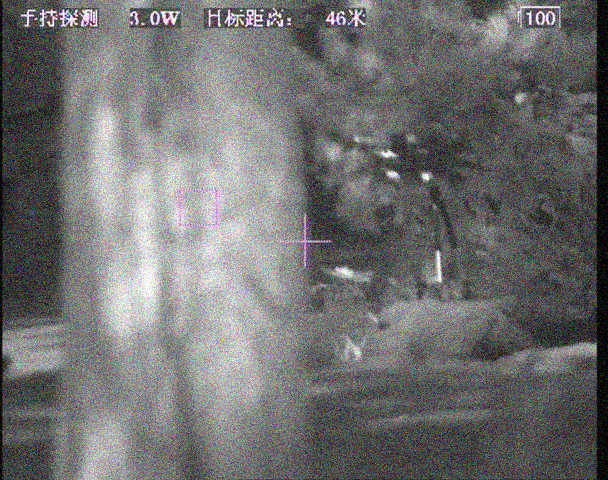my: (421, 171, 432, 182)
